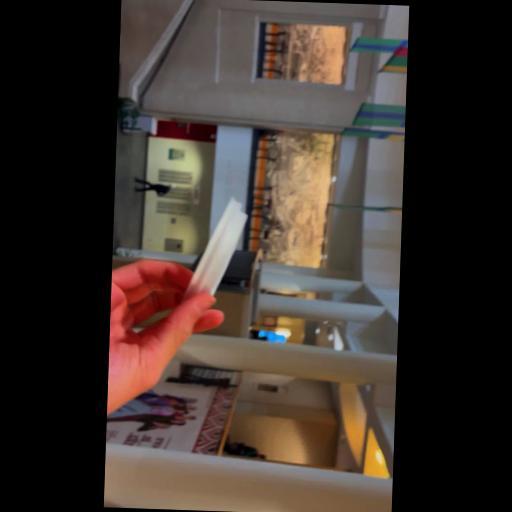lp_cup_lids: (185, 195, 252, 300)
